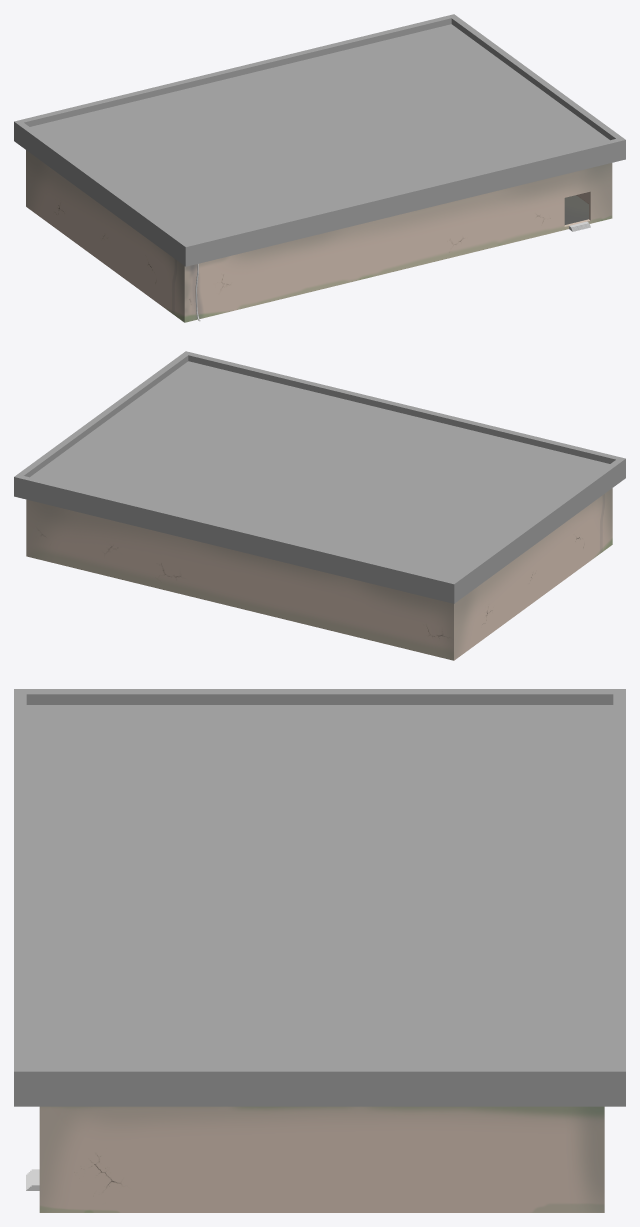
The model's file is 車庫基地.fbx.
The picture shows the model from 3 angles, top to bottom: view 1: azimuth 30°, elevation 25°; view 2: azimuth 150°, elevation 25°; view 3: azimuth 270°, elevation 25°; orthographic projection. The views are drawn at different scales.
Visible parts, largest first — view 1: 立方體.002, 牆壁, 地板.001; view 2: 立方體.002, 牆壁; view 3: 立方體.002, 牆壁.
Boxes of the visible parts, left/top/right/bottom form: 立方體.002: left=14, top=14, right=625, bottom=266; 牆壁: left=26, top=150, right=612, bottom=322; 地板.001: left=564, top=195, right=588, bottom=224; 立方體.002: left=14, top=351, right=625, bottom=603; 牆壁: left=26, top=488, right=612, bottom=660; 立方體.002: left=14, top=689, right=625, bottom=1106; 牆壁: left=39, top=1106, right=604, bottom=1212.
Bounding box in the file's own units: 6628 × 1185 × 4480.
Materials: 3 (2 with a texture image).
